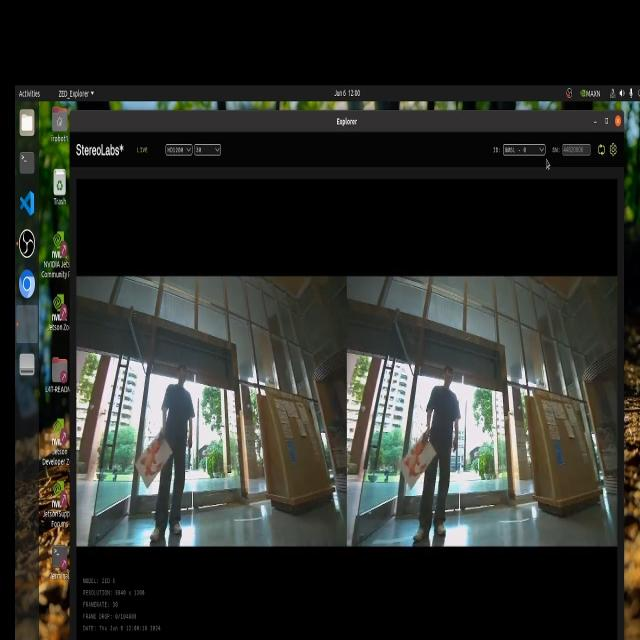red: (136, 434, 164, 482), (406, 433, 430, 479)
